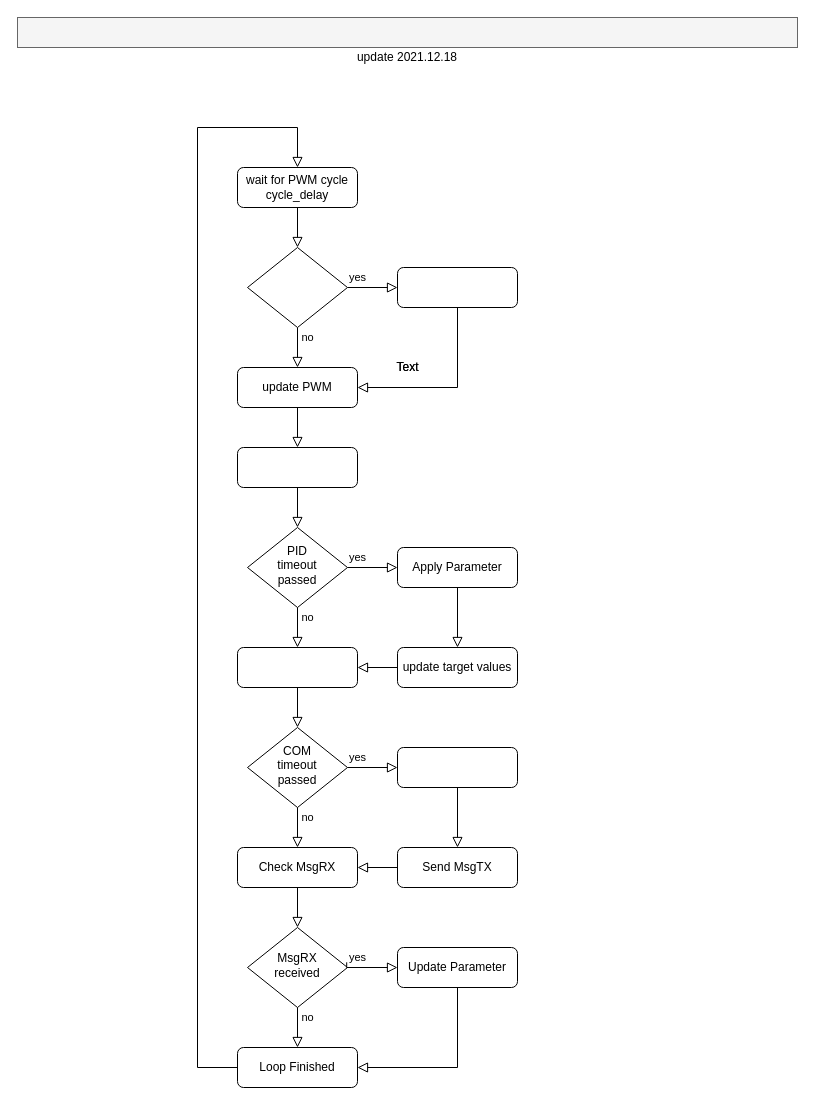
Image size: 815x1105. Some labels were removed from this diagram. Each missing label, with the centre of its shape:
check timeout Communication cycle: the point at 297,667
check timeout PID cycle: the point at 297,467
Flow Chart - Main Car Control: the point at 407,32
Prepair MsgTX: the point at 457,767
PWM cycle missed: the point at 297,287
Warning: cylce missed: the point at 457,287
